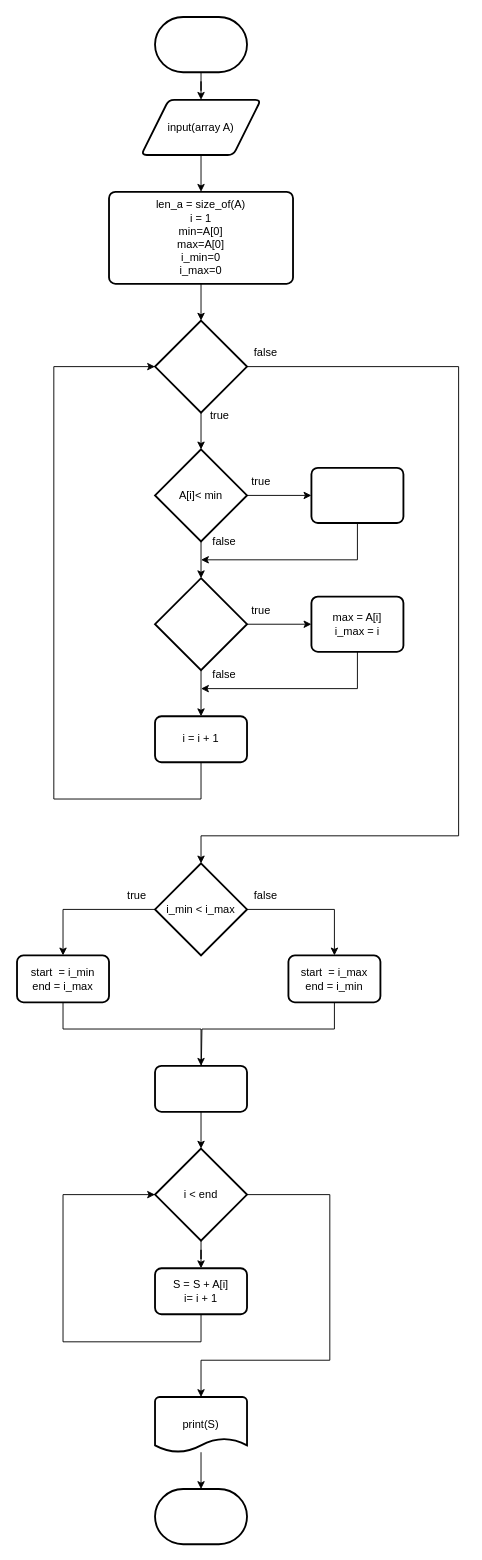
Image size: 482x1560. Some labels were removed from this diagram. Each missing label, with the centre of its shape:
"A[i]> max" belongs at (200,624).
"Begin" belongs at (200,44).
"End" belongs at (200,1516).
"i < len_a" belongs at (200,366).
"min = A[i] i_min = i" belongs at (357,494).
"S = 0 i = start+1" belongs at (200,1088).
